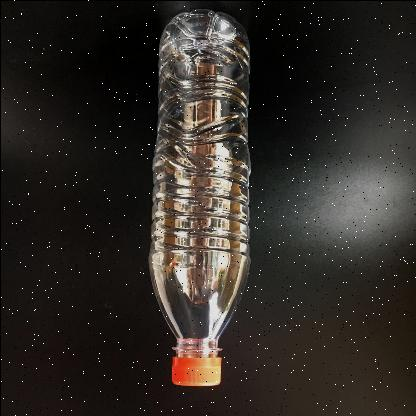Plastic Bottle: (147, 8, 251, 386)
